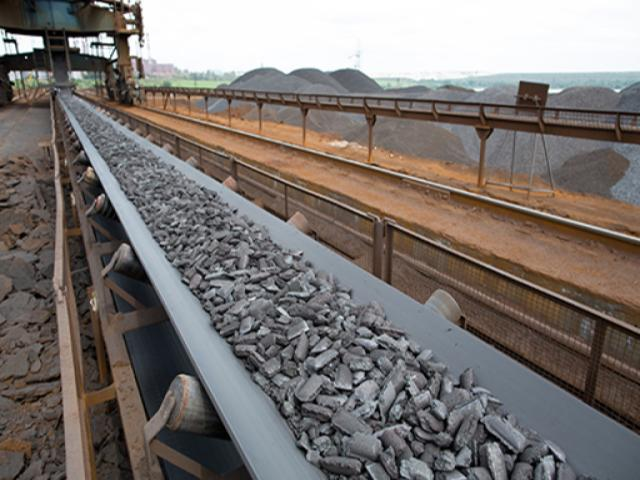conveyor: (47, 85, 638, 479)
